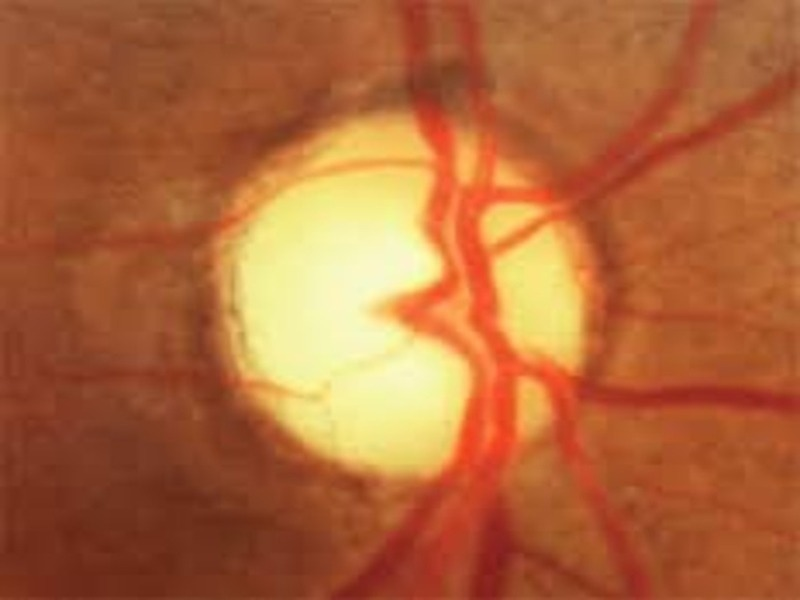Cup Disc: (225, 114, 606, 475)
Optic Cup: (237, 167, 561, 454)
